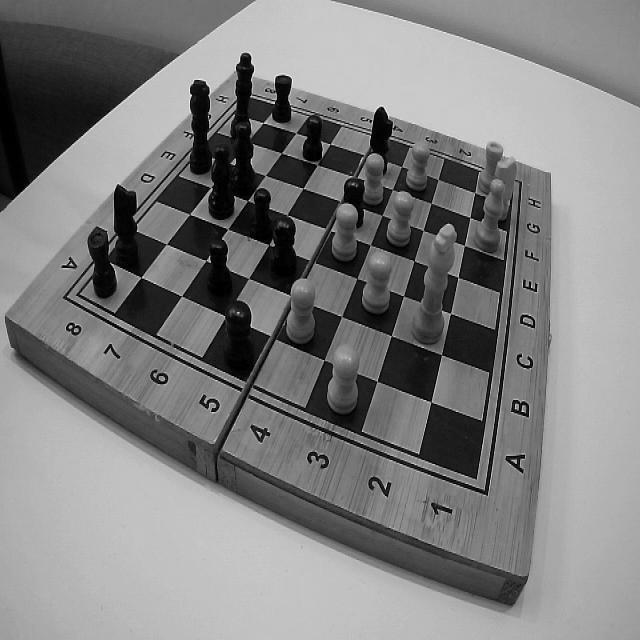chessboard: (73, 93, 515, 478)
